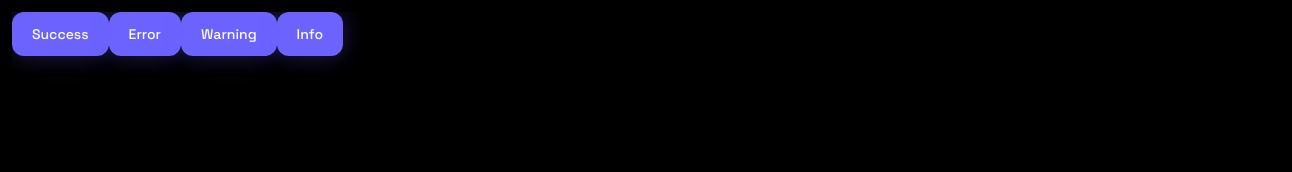
Toast System › displays warning toast
Click the button "Warning". click: click(229, 34)
box: [181,12,277,56]
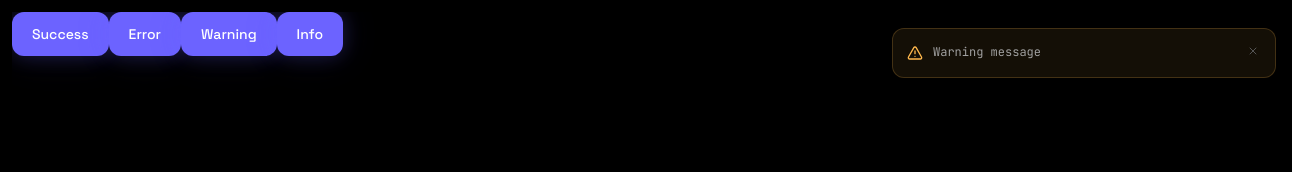
Expected: the text "Warning message" is shown, [933,44,1041,60]
